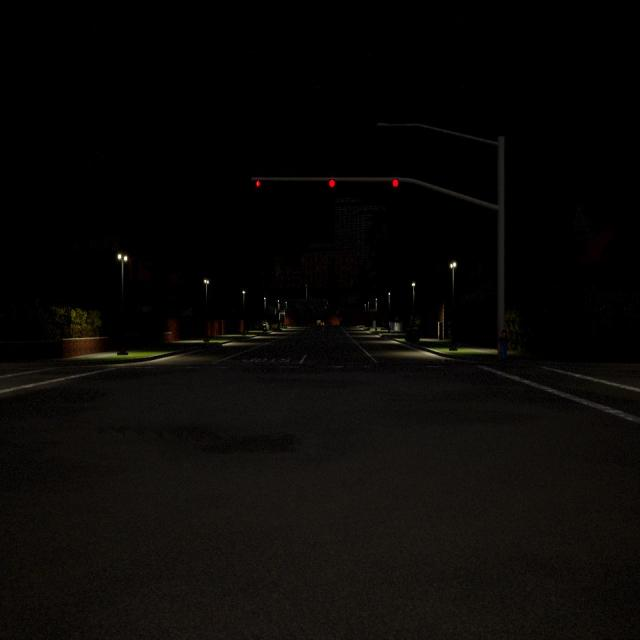Pedestrian: (498, 329, 508, 367)
traffic_light: (329, 180, 335, 187), (393, 179, 398, 187), (256, 180, 260, 187)
